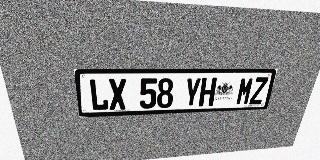5: (140, 78, 157, 109)
8: (157, 78, 174, 108)
H: (198, 77, 217, 106)
L: (88, 79, 109, 111)
M: (235, 77, 255, 105)
X: (108, 78, 127, 110)
Y: (183, 78, 202, 107)
Z: (249, 77, 269, 104)
